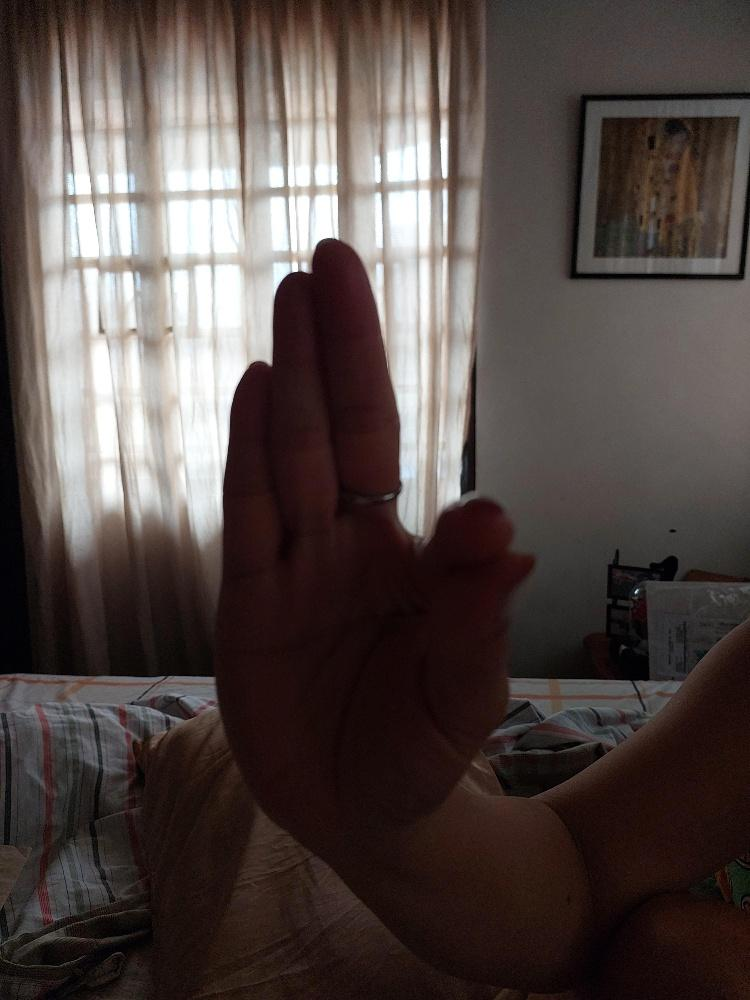f: (209, 228, 544, 839)
